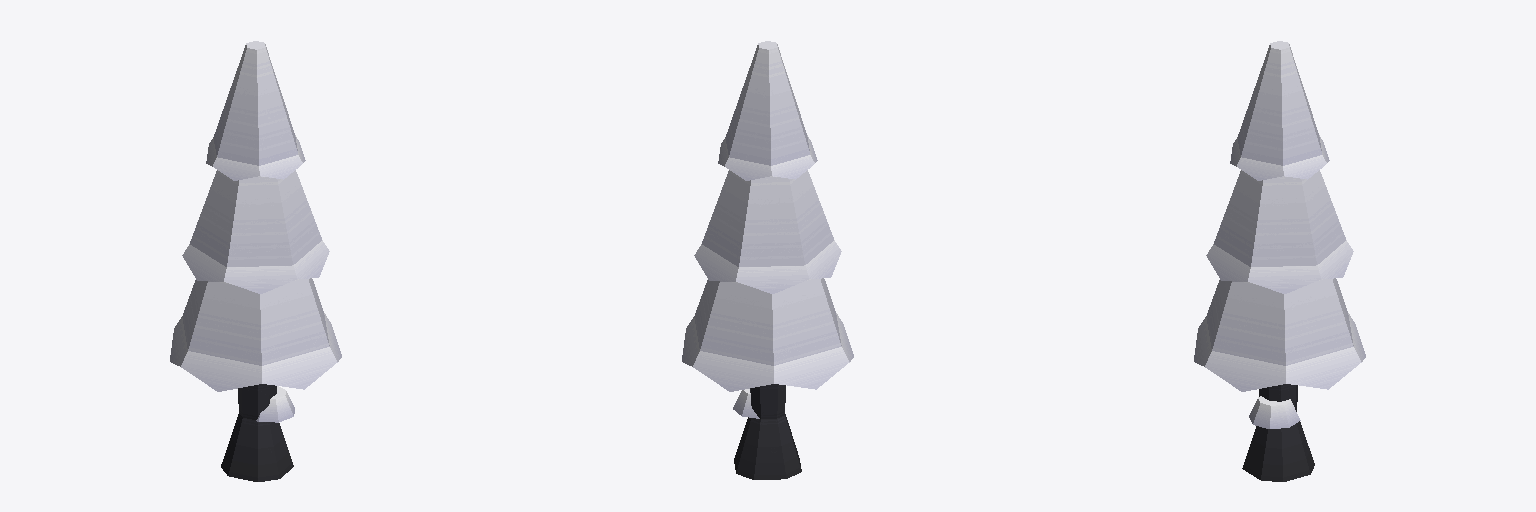
The picture shows the model from 3 angles: view 1: azimuth 30°, elevation 25°; view 2: azimuth 150°, elevation 25°; view 3: azimuth 270°, elevation 25°; orthographic projection.
Parts seen in each view (by area): view 1: tree.028; view 2: tree.028; view 3: tree.028.
Part boxes in pixels (bbox=[...]): tree.028: bbox=[170, 41, 341, 481]; tree.028: bbox=[682, 41, 853, 479]; tree.028: bbox=[1194, 41, 1365, 481].
Bounding box in the file's own units: 1.36 × 3.47 × 1.29.
Materials: 1 (1 with a texture image).